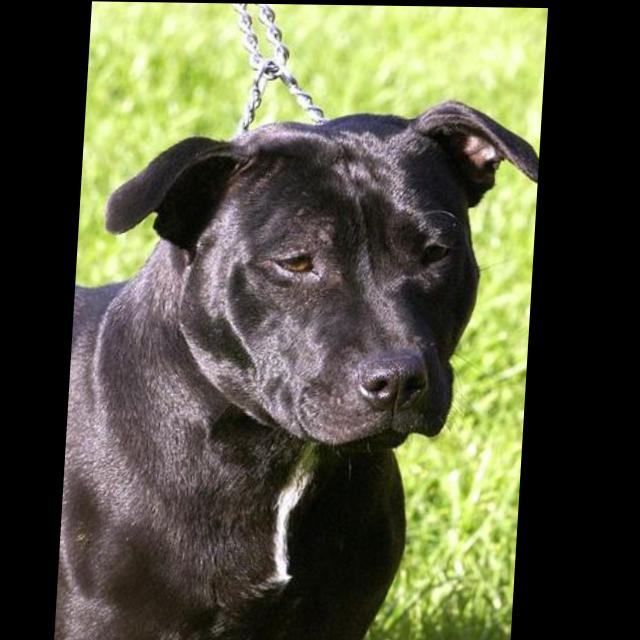staffford: (63, 93, 545, 640)
